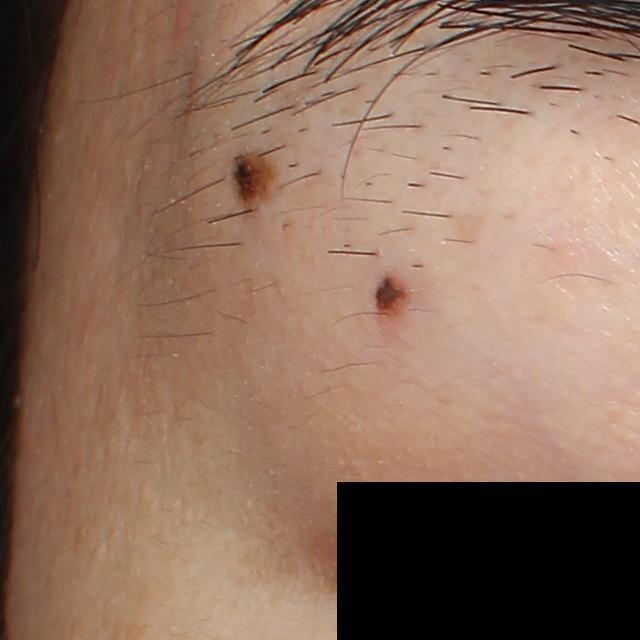nevus: (226, 146, 274, 216), (372, 272, 410, 319)
